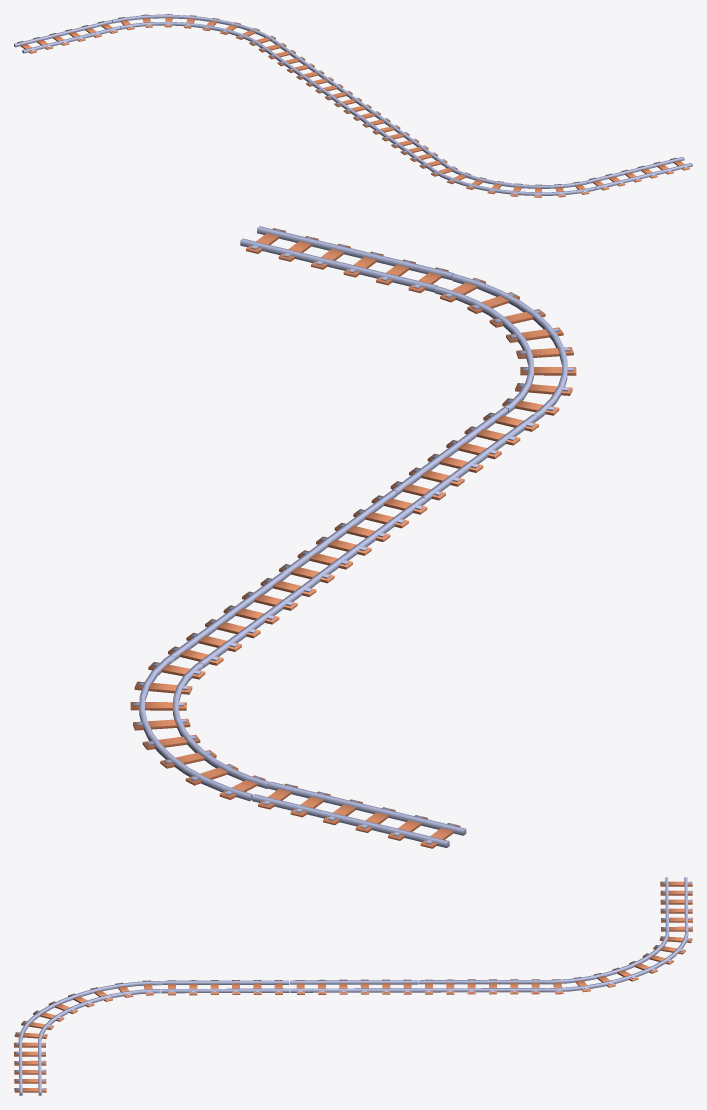
Rendered from left-s-curve.glb.
3 renders of one model, top to bottom at view 1: azimuth 30°, elevation 25°; view 2: azimuth 150°, elevation 25°; view 3: azimuth 270°, elevation 25°, orthographic. The views are drawn at different scales.
Parts seen in each view (by area): view 1: railroad-corner-large, railroad-corner-large.010, railroad-straight.043, railroad-straight.044, railroad-straight.041, railroad-straight.040, railroad-straight.042; view 2: railroad-corner-large.010, railroad-corner-large, railroad-straight.043, railroad-straight.044, railroad-straight.040, railroad-straight.042, railroad-straight.041; view 3: railroad-corner-large.010, railroad-corner-large, railroad-straight.042, railroad-straight.041, railroad-straight.040, railroad-straight.043, railroad-straight.044.
Boxes of the visible parts, bbox=[...] form: railroad-corner-large: bbox=[430, 164, 595, 197]; railroad-corner-large.010: bbox=[111, 14, 275, 46]; railroad-straight.043: bbox=[14, 20, 120, 53]; railroad-straight.044: bbox=[586, 157, 692, 190]; railroad-straight.041: bbox=[315, 81, 390, 128]; railroad-straight.040: bbox=[372, 122, 447, 169]; railroad-straight.042: bbox=[258, 40, 333, 87]; railroad-corner-large.010: bbox=[130, 655, 270, 801]; railroad-corner-large: bbox=[435, 274, 576, 420]; railroad-straight.043: bbox=[252, 781, 466, 848]; railroad-straight.044: bbox=[240, 226, 454, 293]; railroad-straight.040: bbox=[390, 407, 538, 502]; railroad-straight.042: bbox=[168, 573, 316, 667]; railroad-straight.041: bbox=[279, 490, 427, 585]; railroad-corner-large.010: bbox=[545, 932, 692, 994]; railroad-corner-large: bbox=[14, 980, 160, 1040]; railroad-straight.042: bbox=[418, 979, 546, 994]; railroad-straight.041: bbox=[290, 979, 418, 994]; railroad-straight.040: bbox=[161, 980, 289, 995]; railroad-straight.043: bbox=[660, 877, 692, 932]; railroad-straight.044: bbox=[14, 1038, 46, 1095].
Bounding box in the file's own units: 15.91 × 0.1098 × 21.21.
2 materials, 2 textured.
